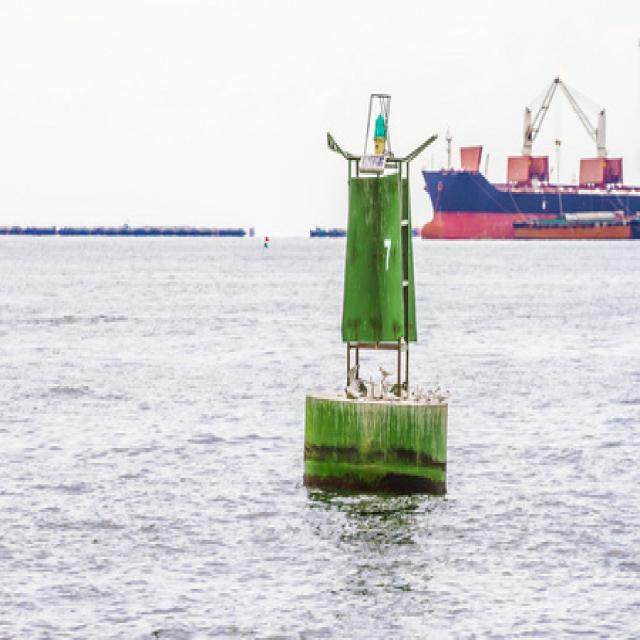buoy: (300, 85, 455, 492)
